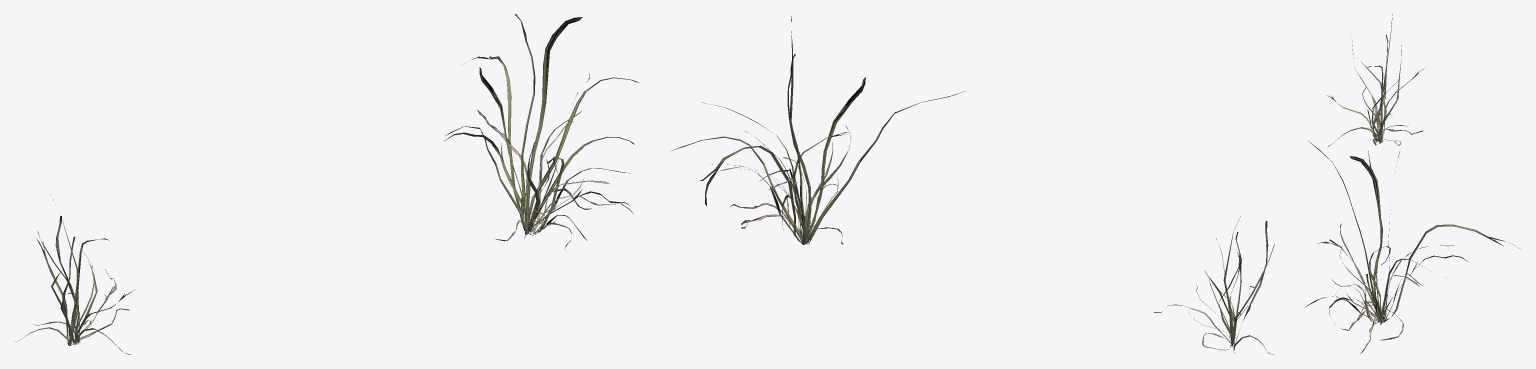
The model's file is grass_medium_02.glb.
The picture shows the model from 3 angles, left to right: view 1: azimuth 30°, elevation 25°; view 2: azimuth 150°, elevation 25°; view 3: azimuth 270°, elevation 25°; orthographic projection. The views are drawn at different scales.
Parts seen in each view (by area): view 1: grass_medium_02_c, grass_medium_02_a; view 2: grass_medium_02_c, grass_medium_02_a; view 3: grass_medium_02_c, grass_medium_02_a.
Part boxes in pixels (bbox=[...]): grass_medium_02_c: bbox=[444, 14, 639, 248]; grass_medium_02_a: bbox=[15, 200, 133, 354]; grass_medium_02_c: bbox=[671, 16, 965, 244]; grass_medium_02_a: bbox=[1154, 216, 1274, 354]; grass_medium_02_c: bbox=[1305, 141, 1519, 353]; grass_medium_02_a: bbox=[1327, 14, 1424, 146].
Size of the model in its own units: 0.6627 by 0.2317 by 0.2495.
Materials: 1 (1 with a texture image).
